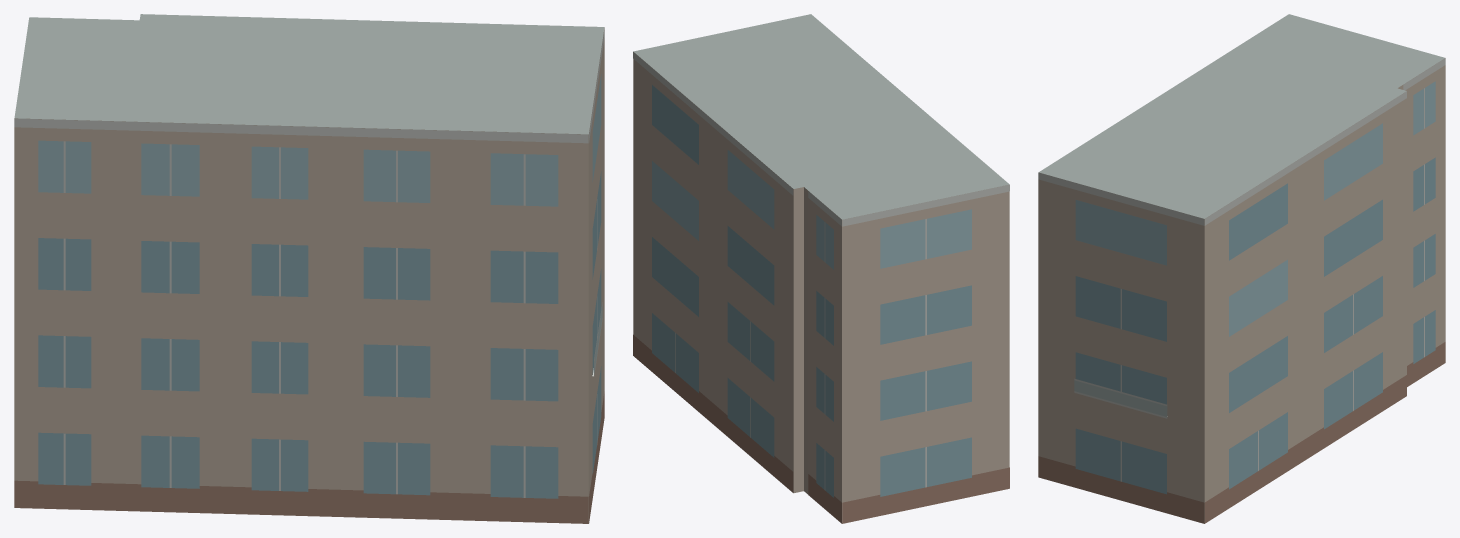
Rendered from survey-upis-32935317.glb.
3 renders of one model, left to right at view 1: azimuth 30°, elevation 25°; view 2: azimuth 150°, elevation 25°; view 3: azimuth 270°, elevation 25°, orthographic. The views are drawn at different scales.
Parts seen in each view (by area): view 1: survey-upis-32935317.tmp; view 2: survey-upis-32935317.tmp; view 3: survey-upis-32935317.tmp.
Part boxes in pixels (<box>): survey-upis-32935317.tmp: <box>14,14,604,523</box>; survey-upis-32935317.tmp: <box>633,14,1009,523</box>; survey-upis-32935317.tmp: <box>1038,14,1445,523</box>.
Bounding box in the file's own units: 15.28 × 10.6 × 12.83.
